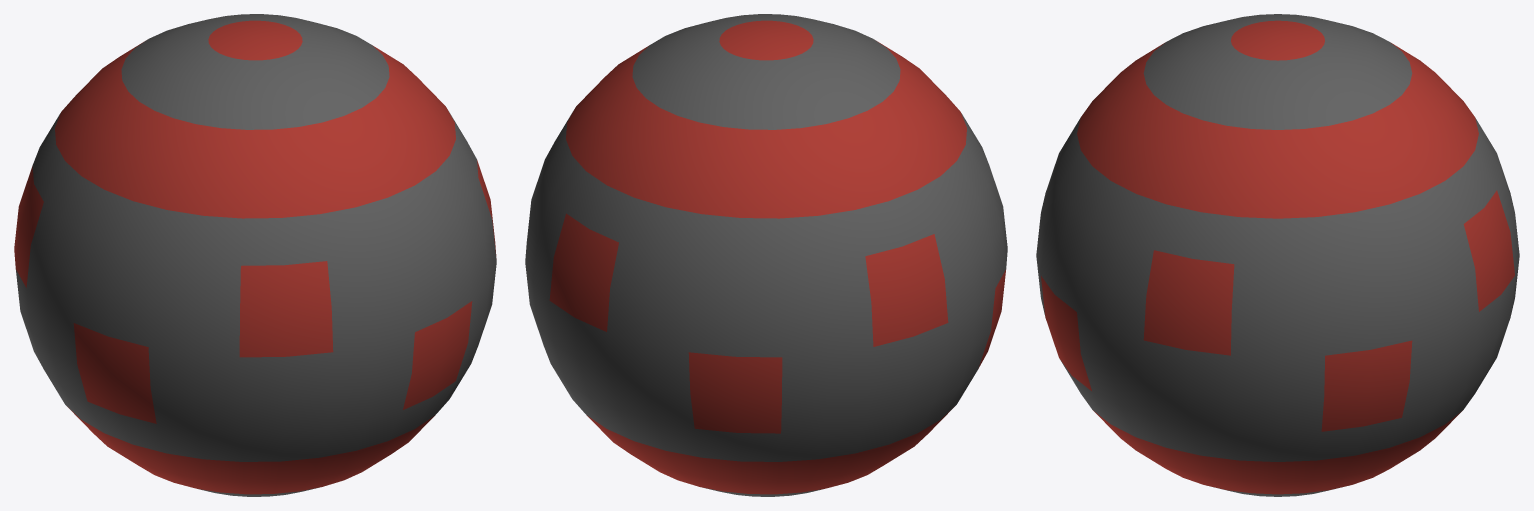
File: Ball.fbx
3 views of the same model, side by side, from view 1: azimuth 30°, elevation 25°; view 2: azimuth 150°, elevation 25°; view 3: azimuth 270°, elevation 25° (orthographic).
Visible parts, largest first — view 1: Sphere; view 2: Sphere; view 3: Sphere.
Part boxes in pixels (x1=…): Sphere: x1=14, y1=14, x2=496, y2=496; Sphere: x1=525, y1=14, x2=1007, y2=496; Sphere: x1=1036, y1=14, x2=1519, y2=496.
Size of the model in its own units: 200 by 200 by 200.
